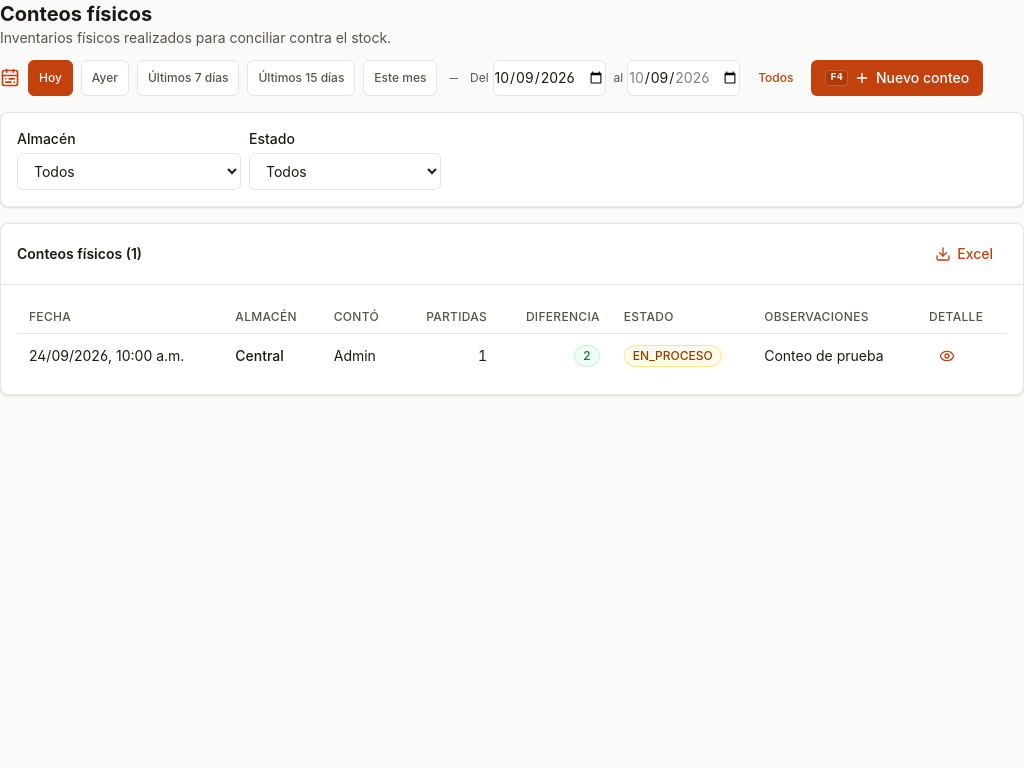
Scenario: ConteosPage (profundización) › valida almacén y partida antes de registrar
The width and height of the screenshot is (1024, 768).
What coordinates should you click on to do the following:
click the button "F4 Nuevo conteo"
I would click on:
 (897, 78)
Its box is [812, 60, 983, 96].
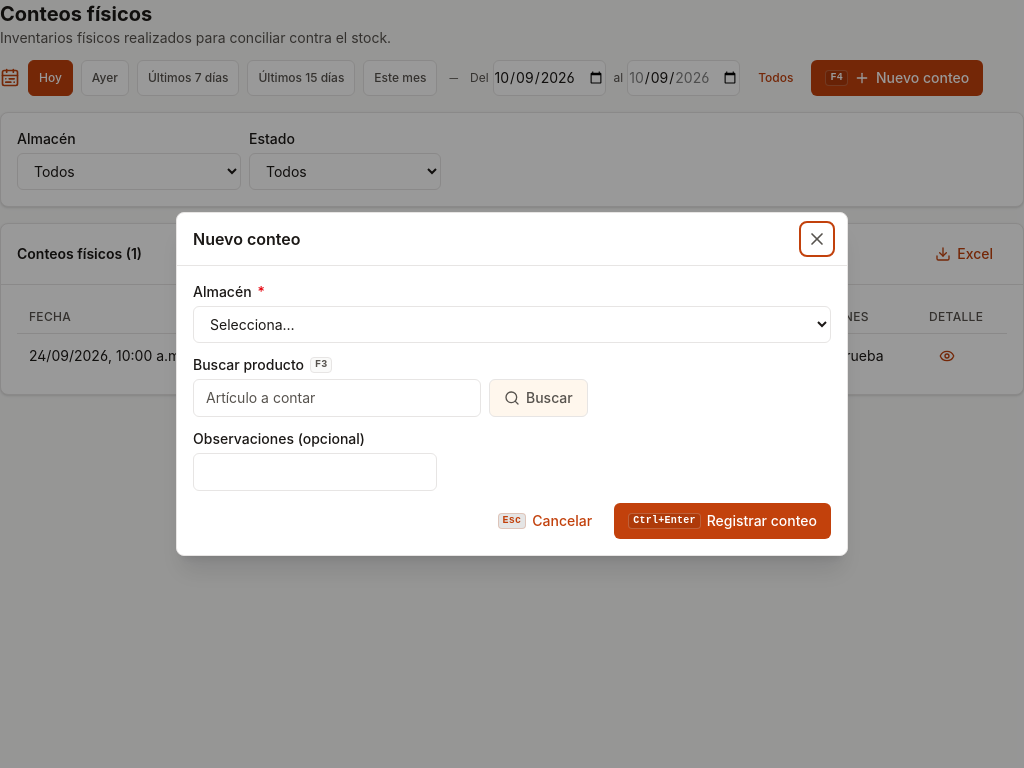
What coordinates should you click on to do the following:
click the button "Ctrl+Enter Registrar conteo"
I would click on:
 (723, 521)
Its box is [614, 503, 831, 539].
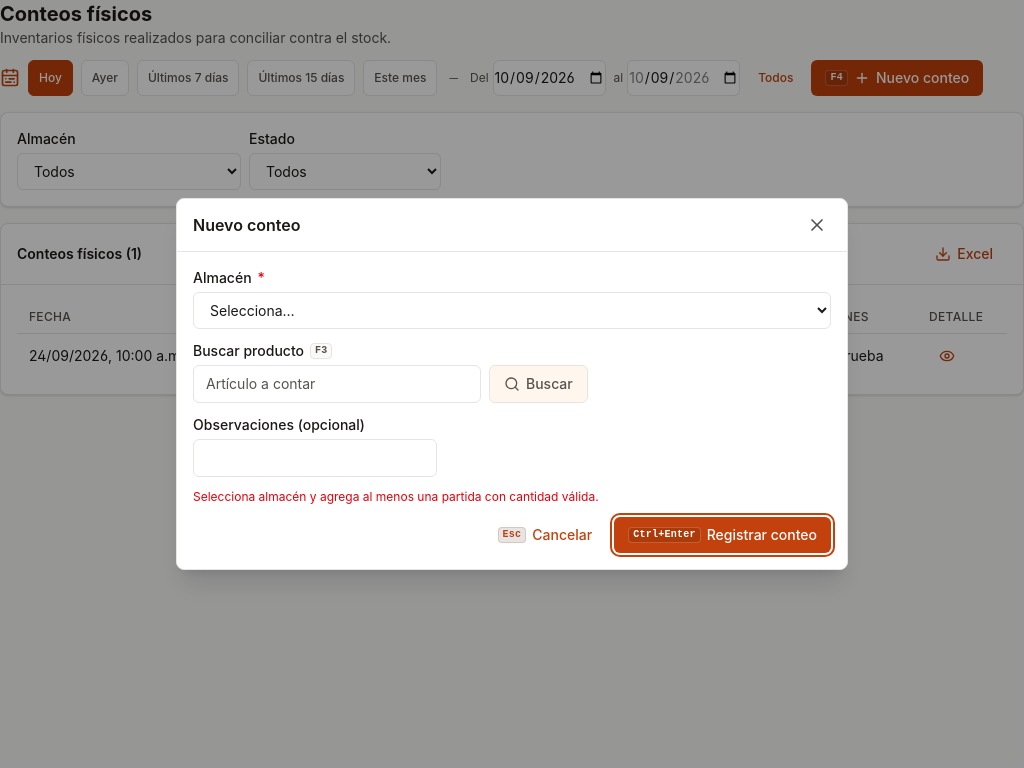
Expected: the text "almacén y agrega al menos una partida" is shown, [193, 489, 599, 504]
